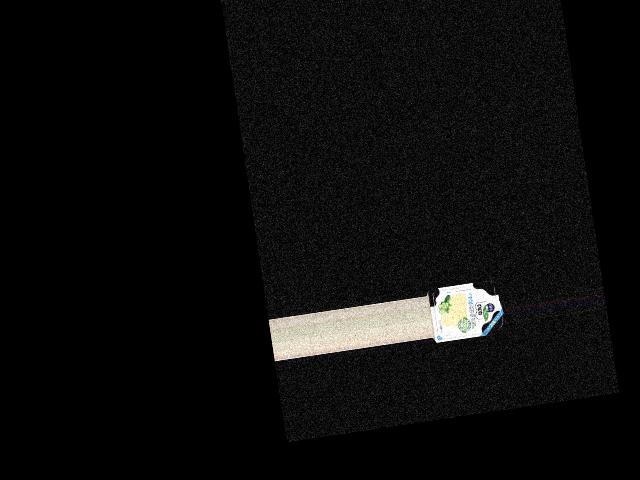cheese: (424, 276, 505, 346)
